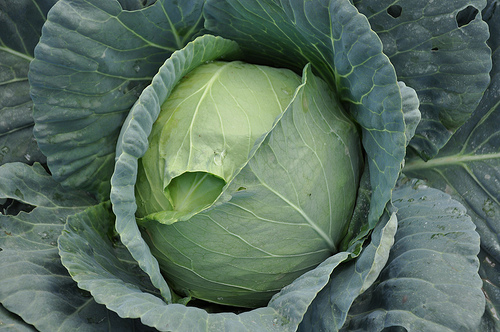cabbage: (1, 0, 499, 331)
